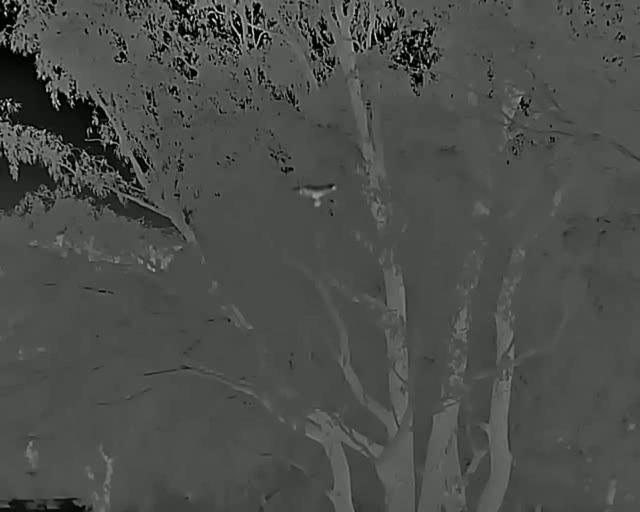DJI-Phantom: (296, 186, 342, 207)
